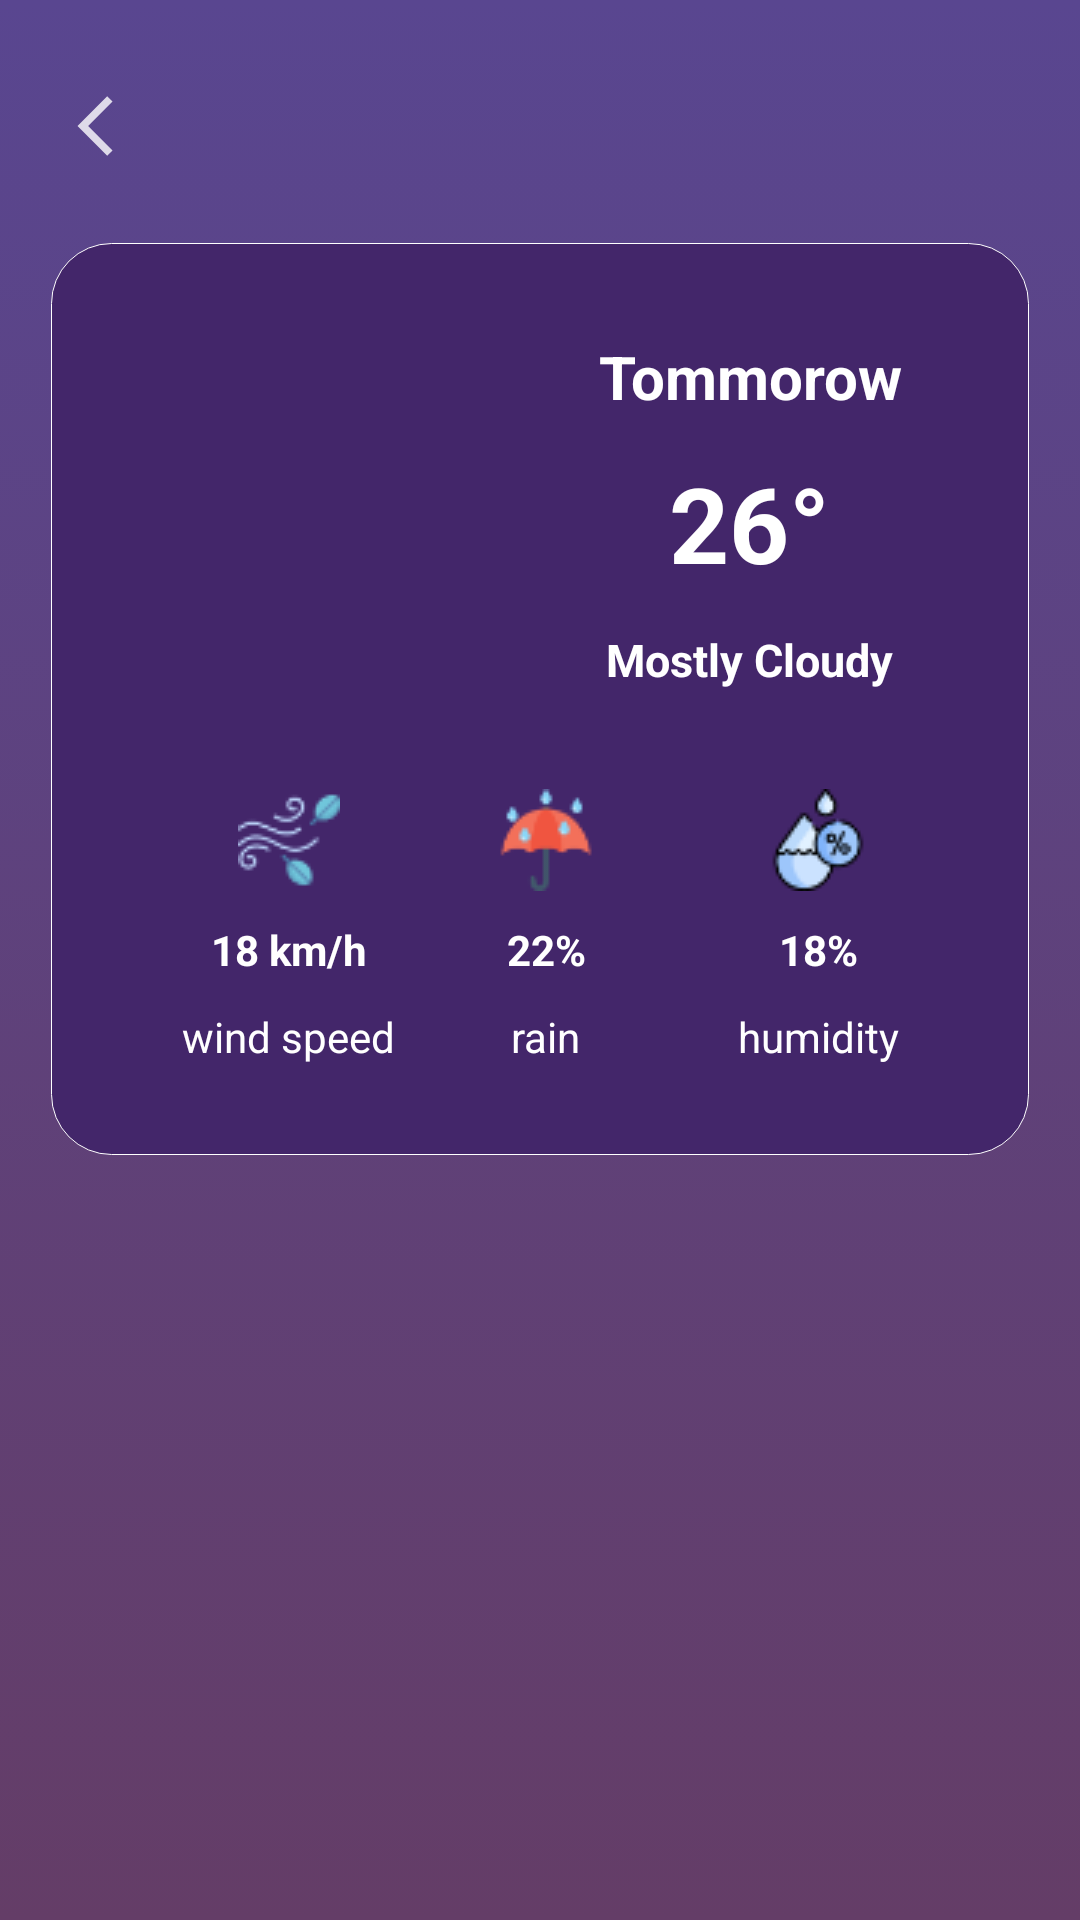

Named icons in this screenshot (1080px x 1920px) and their centers, (x,y):
back: (95,126)
